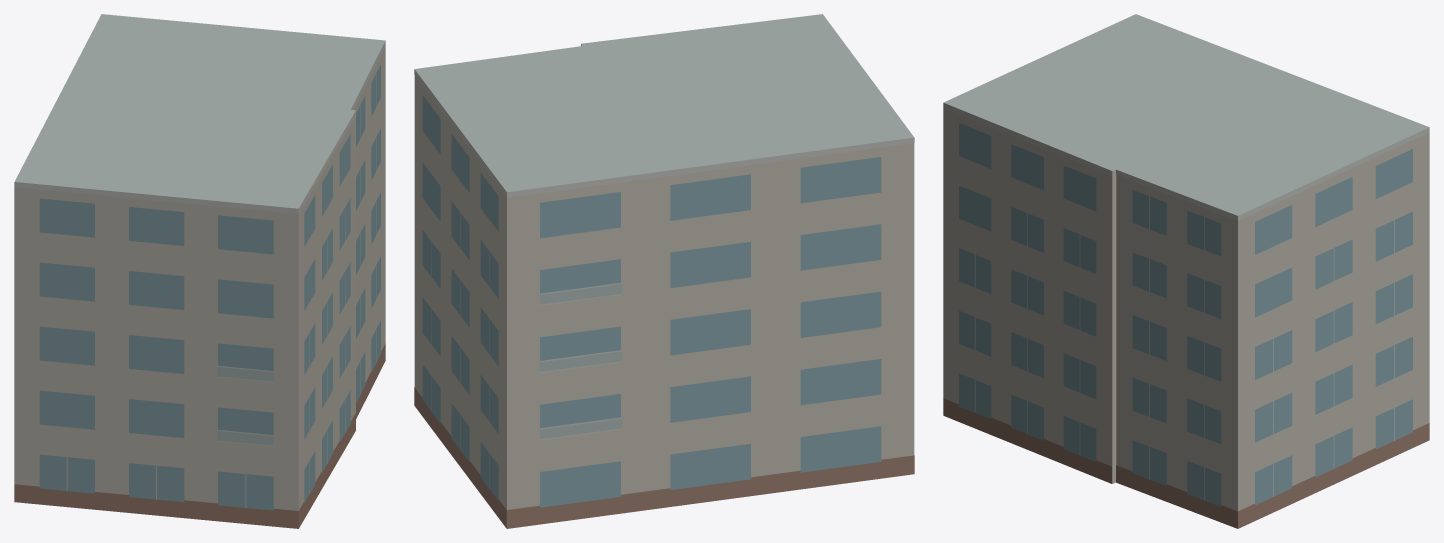
The model's file is survey-upis-32550625.glb.
3 renders of one model, left to right at view 1: azimuth 30°, elevation 25°; view 2: azimuth 150°, elevation 25°; view 3: azimuth 270°, elevation 25°, orthographic. The views are drawn at different scales.
Parts seen in each view (by area): view 1: survey-upis-32550625.tmp; view 2: survey-upis-32550625.tmp; view 3: survey-upis-32550625.tmp.
Part boxes in pixels (x1=…): survey-upis-32550625.tmp: x1=14, y1=14, x2=385, y2=528; survey-upis-32550625.tmp: x1=414, y1=14, x2=914, y2=528; survey-upis-32550625.tmp: x1=943, y1=14, x2=1429, y2=528.
Size of the model in its own units: 20.55 by 14.85 by 20.92.
